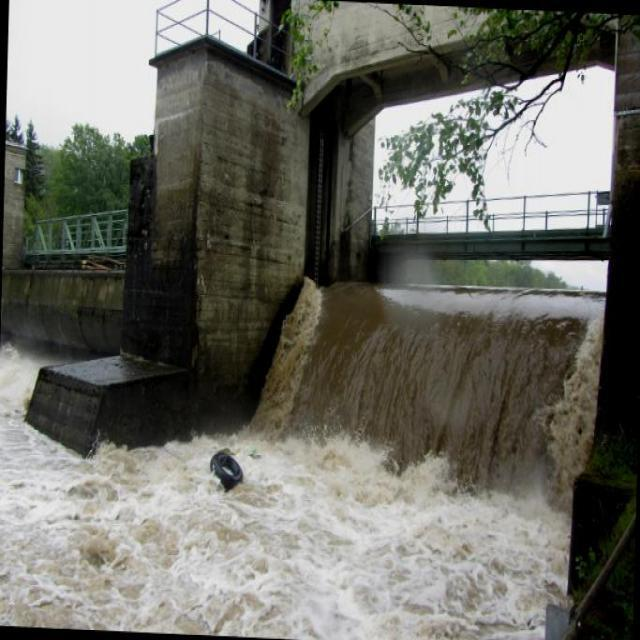flood: (0, 259, 614, 639)
